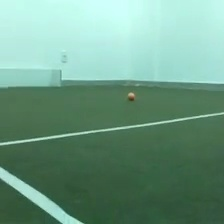ball: (126, 90, 136, 102)
goal: (1, 65, 65, 89)
